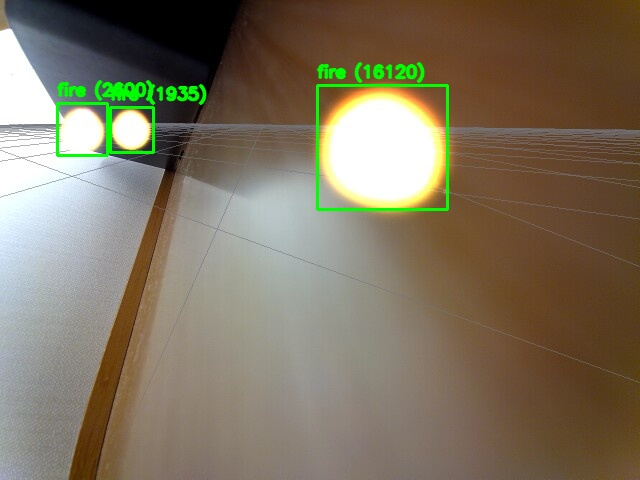fire: (317, 85, 447, 209), (57, 103, 107, 155), (110, 107, 153, 152)
